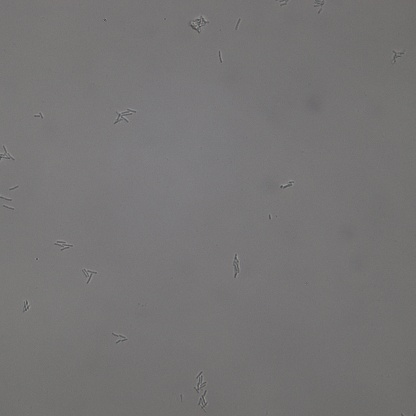R(colony): (113, 108, 136, 124), (189, 15, 209, 33), (193, 371, 208, 392), (232, 253, 241, 280), (199, 390, 209, 413), (82, 268, 97, 283), (1, 146, 14, 161), (54, 240, 73, 250), (279, 180, 295, 190), (391, 51, 403, 64), (112, 334, 127, 344), (23, 302, 30, 312), (34, 112, 44, 119)
